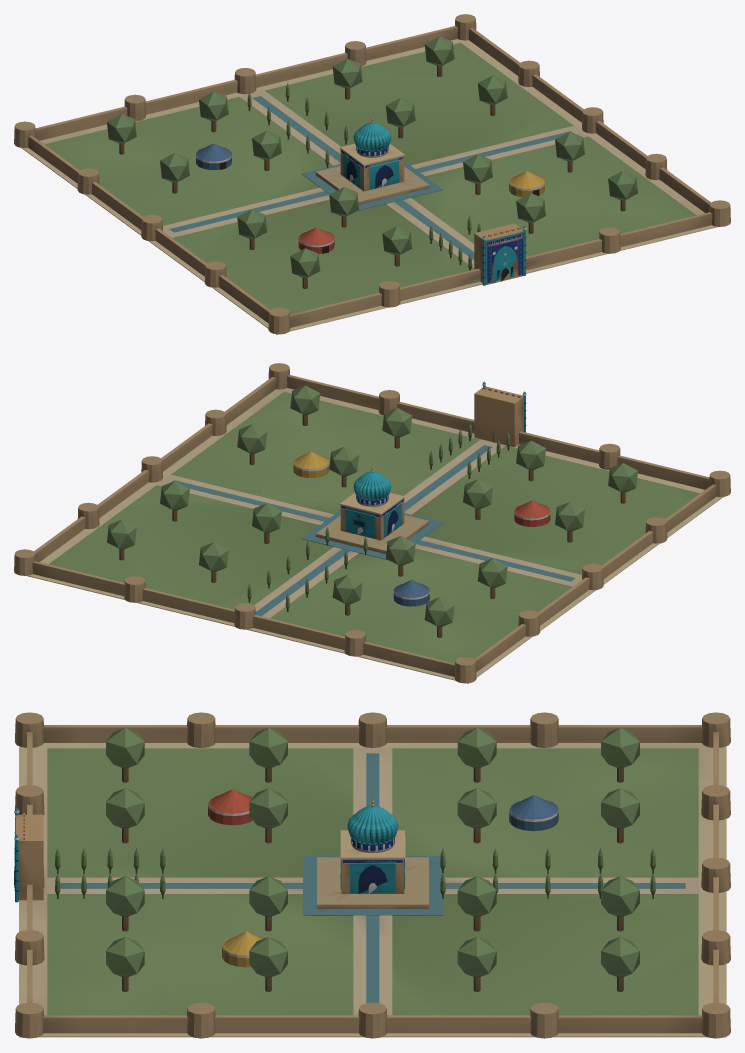
Rendered from bagh-i-dilkusha.glb.
The picture shows the model from 3 angles, top to bottom: view 1: azimuth 30°, elevation 25°; view 2: azimuth 150°, elevation 25°; view 3: azimuth 270°, elevation 25°; orthographic projection. The views are drawn at different scales.
Visible parts, largest first — view 1: p1_garden, p0_walls, p2_pavilion; view 2: p1_garden, p0_walls, p2_pavilion; view 3: p1_garden, p0_walls, p2_pavilion.
Part boxes in pixels (left/top/right/bottom): p1_garden: left=45, top=36, right=695, bottom=314; p0_walls: left=14, top=14, right=730, bottom=334; p2_pavilion: left=195, top=83, right=545, bottom=270; p1_garden: left=49, top=385, right=699, bottom=663; p0_walls: left=14, top=363, right=730, bottom=683; p2_pavilion: left=247, top=422, right=550, bottom=611; p1_garden: left=47, top=727, right=698, bottom=1015; p0_walls: left=14, top=712, right=730, bottom=1038; p2_pavilion: left=55, top=789, right=655, bottom=967.
Bounding box in the file's own units: 204 × 28.85 × 205.
